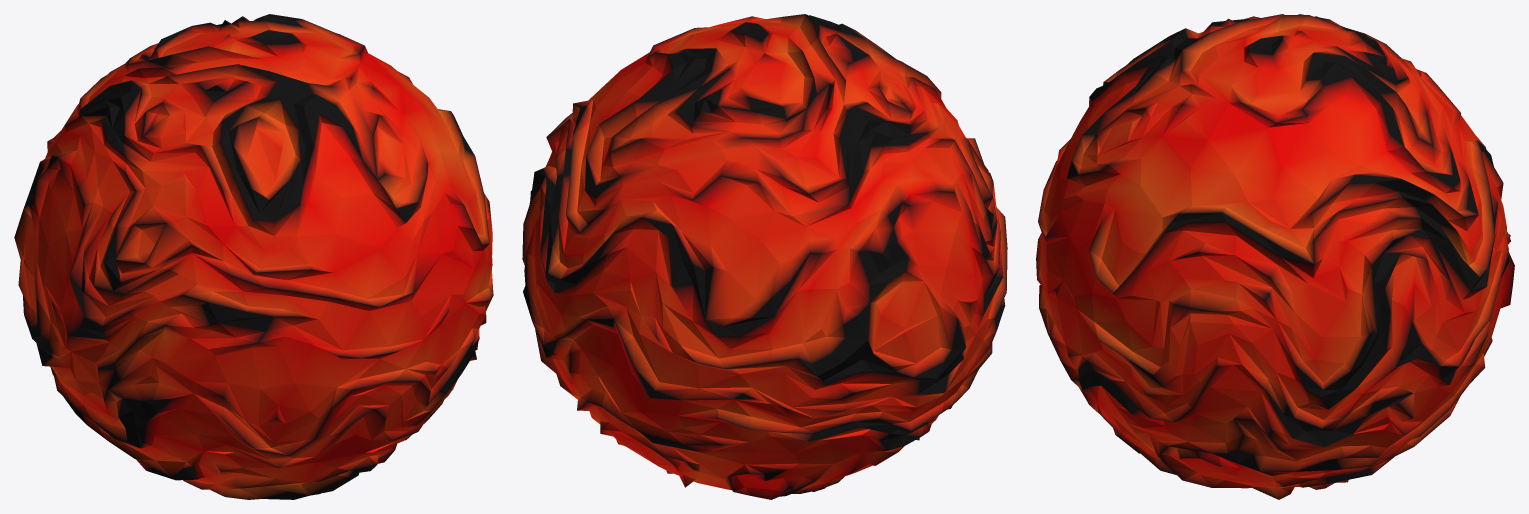
The model's file is volcanic_planet_17.fbx.
3 renders of one model, left to right at view 1: azimuth 30°, elevation 25°; view 2: azimuth 150°, elevation 25°; view 3: azimuth 270°, elevation 25°, orthographic.
Visible parts, largest first — view 1: filecache2; view 2: filecache2; view 3: filecache2.
Boxes of the visible parts, x1,y1,x2,y2 form: filecache2: (14, 14, 493, 499); filecache2: (522, 14, 1007, 499); filecache2: (1036, 14, 1514, 499).
Size of the model in its own units: 2.06 by 2.07 by 2.05.
